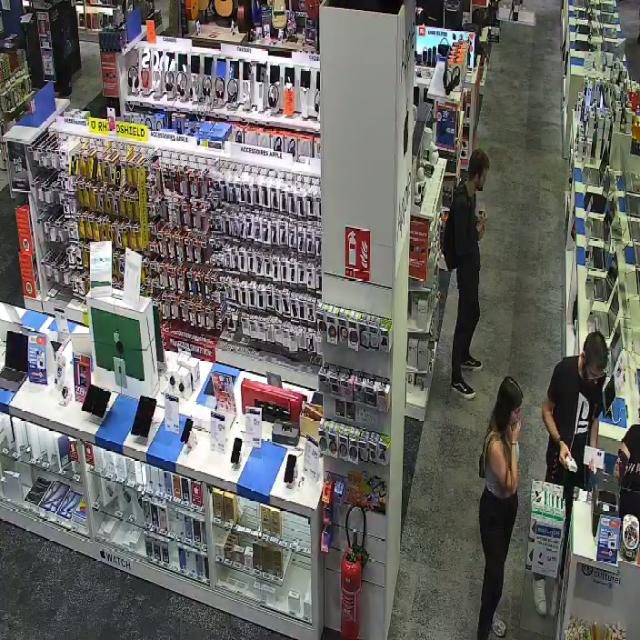article: (585, 446, 603, 468), (567, 456, 576, 471)
hands: (559, 440, 573, 468), (477, 207, 488, 235), (510, 420, 522, 444)
person: (543, 331, 607, 572), (476, 376, 522, 639), (443, 148, 489, 398), (534, 572, 545, 614)
